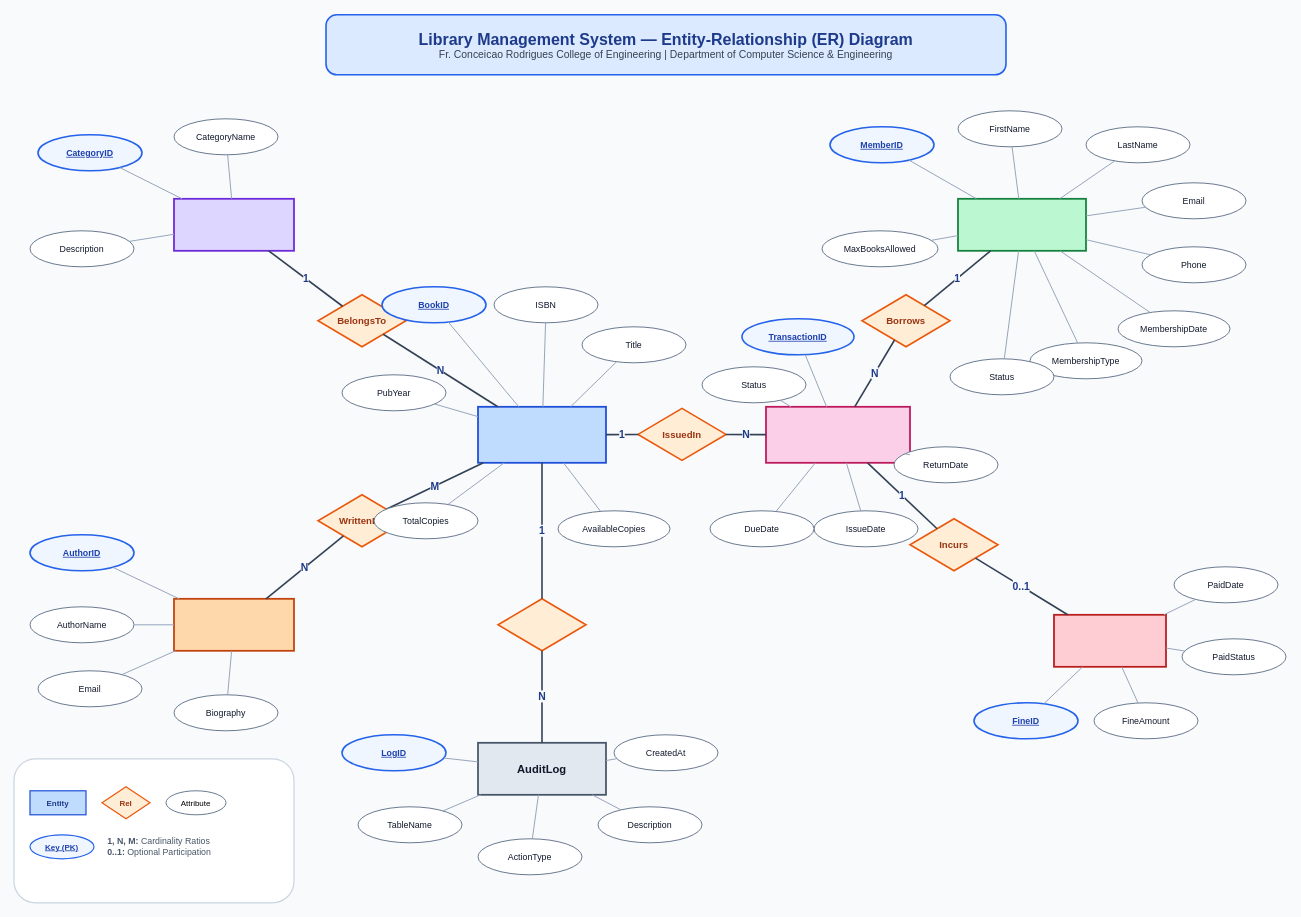
Image size: 1301x917. Some labels were removed from this diagram. Each missing label, with the box of its shape:
AuditedIn: (497, 598, 586, 651)
Author: (173, 598, 294, 651)
Book: (477, 406, 606, 463)
BorrowTransaction: (765, 406, 910, 463)
Category: (173, 198, 294, 251)
Fine: (1053, 614, 1166, 667)
Legend / Chen ER Notation: (13, 758, 294, 903)
Member: (957, 198, 1086, 251)
